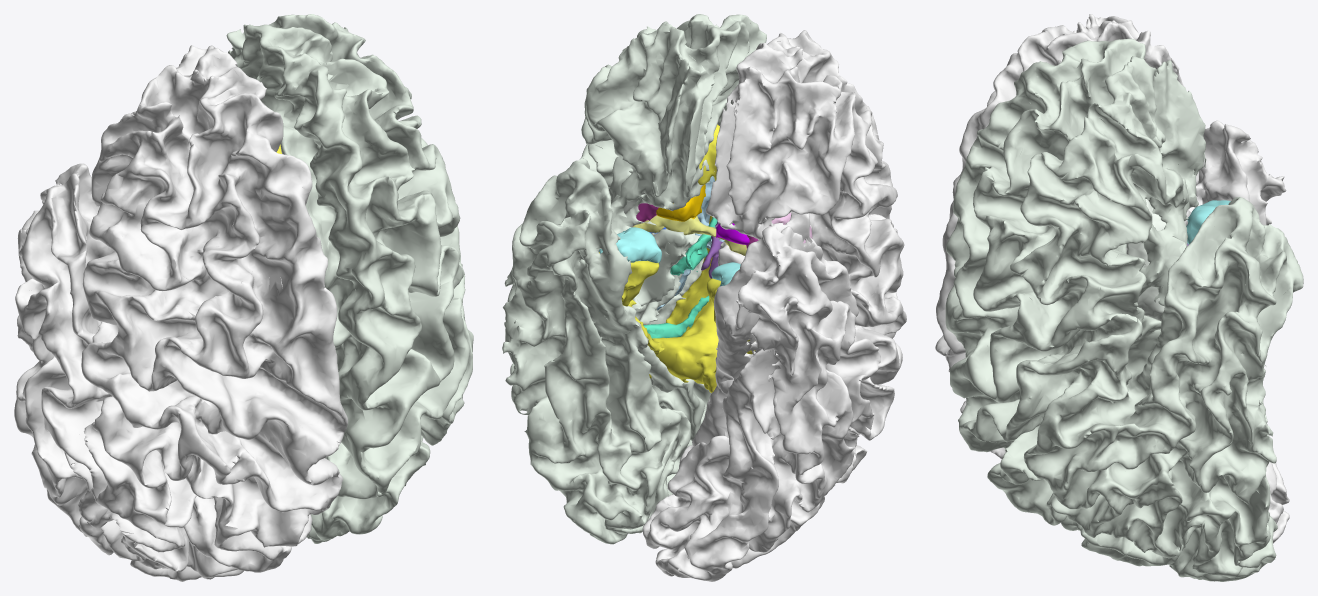
Rendered from deep-telencephalon.glb.
3 views of the same model, side by side, from view 1: azimuth 30°, elevation 25°; view 2: azimuth 150°, elevation 25°; view 3: azimuth 270°, elevation 25° (orthographic). The views are drawn at different scales.
Visible parts, largest first — view 1: spl-2, spl-41; view 2: spl-2, spl-41, spl-3004, spl-3005, spl-54, spl-142, spl-53, spl-58, spl-50; view 3: spl-41, spl-2, spl-3000, spl-18.
Boxes of the visible parts, x1=… form: spl-2: x1=14, y1=45, x2=348, y2=581; spl-41: x1=226, y1=14, x2=473, y2=543; spl-2: x1=642, y1=30, x2=906, y2=581; spl-41: x1=502, y1=14, x2=766, y2=544; spl-3004: x1=649, y1=124, x2=719, y2=392; spl-3005: x1=643, y1=217, x2=717, y2=338; spl-54: x1=599, y1=227, x2=661, y2=263; spl-142: x1=632, y1=215, x2=746, y2=255; spl-53: x1=599, y1=252, x2=664, y2=355; spl-58: x1=656, y1=184, x2=705, y2=221; spl-50: x1=657, y1=176, x2=714, y2=310; spl-41: x1=945, y1=38, x2=1303, y2=581; spl-2: x1=935, y1=14, x2=1289, y2=543; spl-3000: x1=1126, y1=199, x2=1166, y2=320; spl-18: x1=1186, y1=200, x2=1230, y2=244.
Size of the model in its own units: 123 by 175 by 110.
